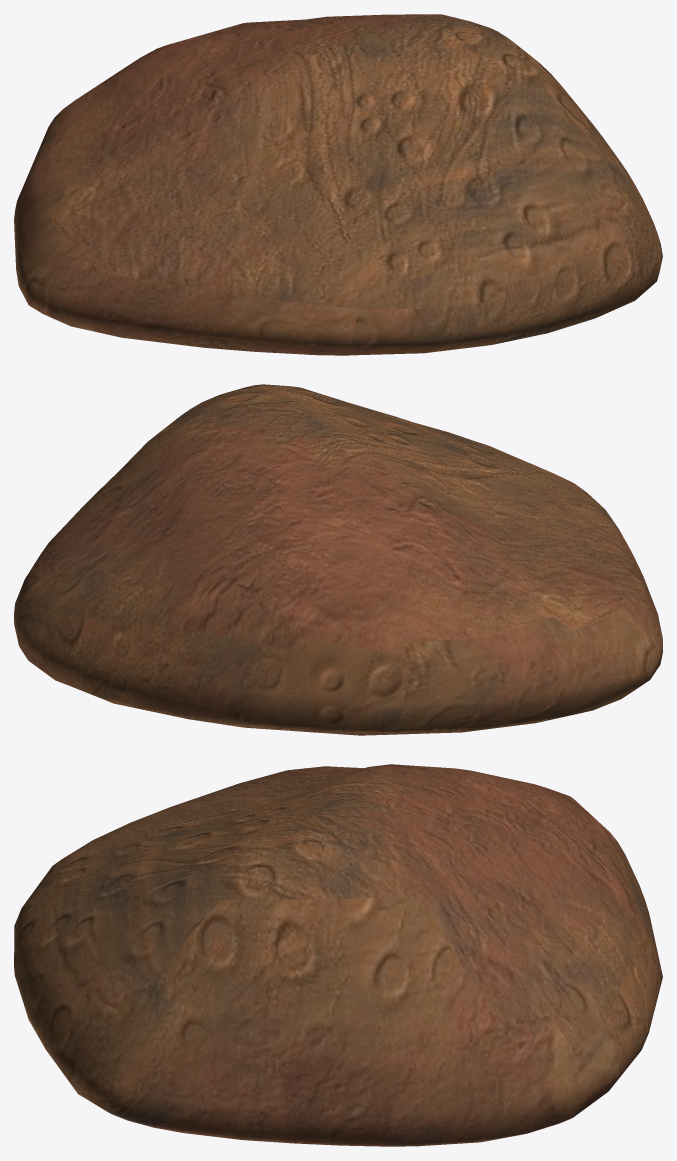
File: MarsRock15.obj
3 renders of one model, top to bottom at view 1: azimuth 30°, elevation 25°; view 2: azimuth 150°, elevation 25°; view 3: azimuth 270°, elevation 25°, orthographic. The views are drawn at different scales.
Visible parts, largest first — view 1: Rocks13; view 2: Rocks13; view 3: Rocks13.
Boxes of the visible parts, x1=… form: Rocks13: x1=14, y1=14, x2=662, y2=355; Rocks13: x1=14, y1=384, x2=662, y2=735; Rocks13: x1=14, y1=764, x2=662, y2=1146.
Bounding box in the file's own units: 0.8025 × 0.3194 × 0.7219.
Materials: 1 (1 with a texture image).
